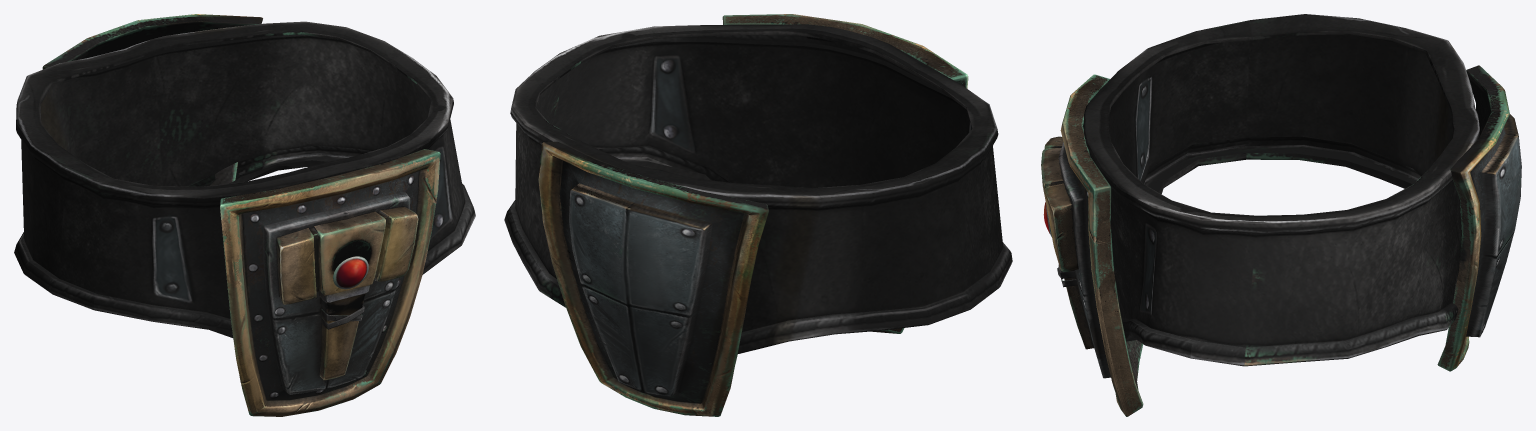
File: sm_yun_heodedna_belt.gltf
The picture shows the model from 3 angles, left to right: view 1: azimuth 30°, elevation 25°; view 2: azimuth 150°, elevation 25°; view 3: azimuth 270°, elevation 25°; orthographic projection. The views are drawn at different scales.
Parts seen in each view (by area): view 1: sm_yun_heodedna_belt; view 2: sm_yun_heodedna_belt; view 3: sm_yun_heodedna_belt.
Boxes of the visible parts, x1,y1,x2,y2 form: sm_yun_heodedna_belt: (14, 14, 475, 416); sm_yun_heodedna_belt: (504, 14, 1012, 416); sm_yun_heodedna_belt: (1041, 14, 1521, 416).
Bounding box in the file's own units: 80.18 × 47.8 × 74.31.
1 material, 1 textured.
